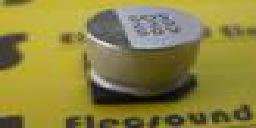Electrolytic-Capacitor: (85, 5, 208, 94)
